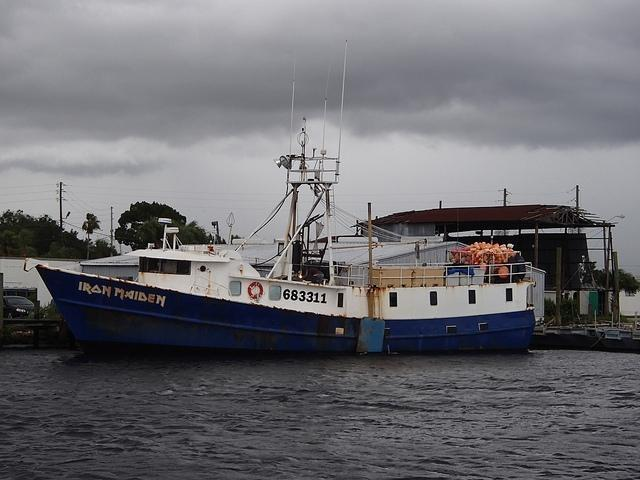car: (3, 296, 35, 318)
